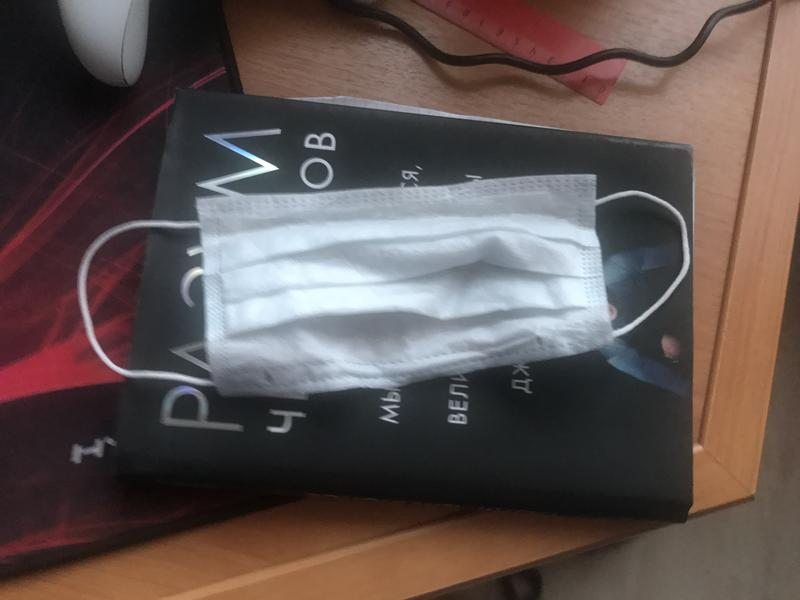medical_mask: (76, 174, 690, 391)
